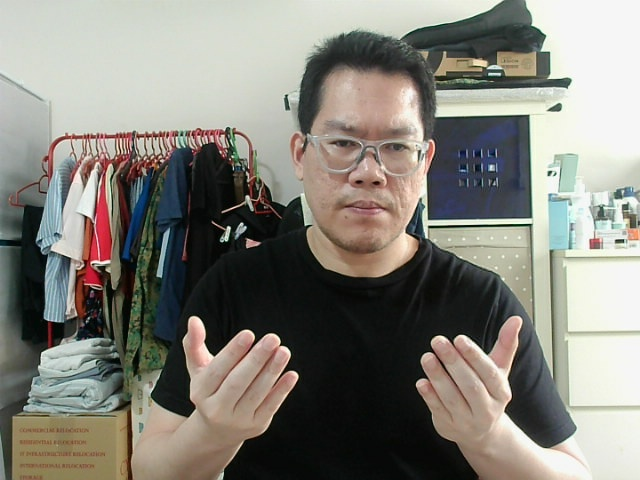want: (422, 320, 513, 435)
